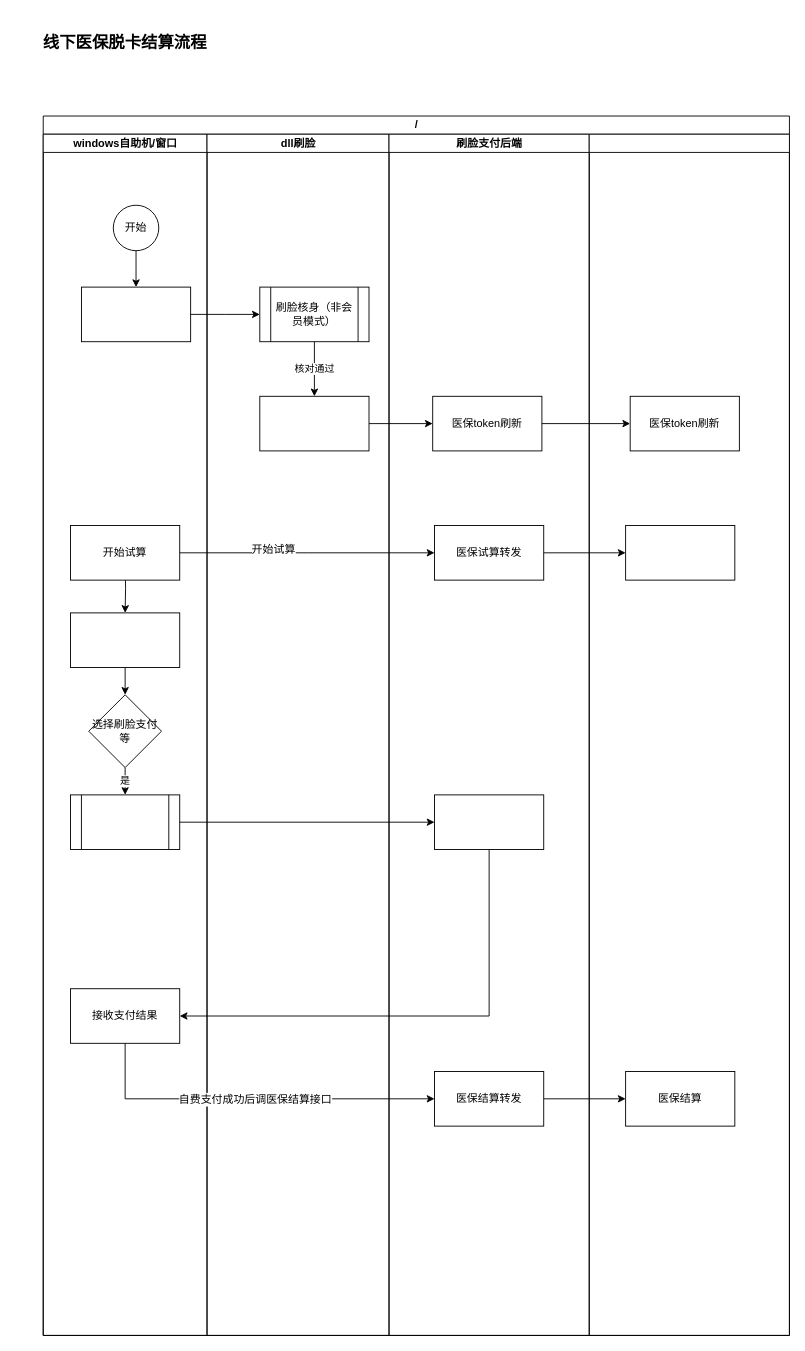
This 805x1351 diagram has some shape labels left out. Here are the shapes that lost their labels. From the top down, the box of each, then its label:
(81, 286, 191, 342): 医保卡信息（卡号，卡识别码，姓名，身份证号）
(259, 395, 369, 451): 根据入参的医保信息，刷新token
(625, 525, 735, 580): 医保试算
(70, 612, 180, 667): 试算后，展示费用明细
(588, 133, 789, 1335): 医保
(70, 794, 180, 849): 刷脸支付等自费支付流程
(434, 794, 544, 849): 刷脸支付等支付接口
